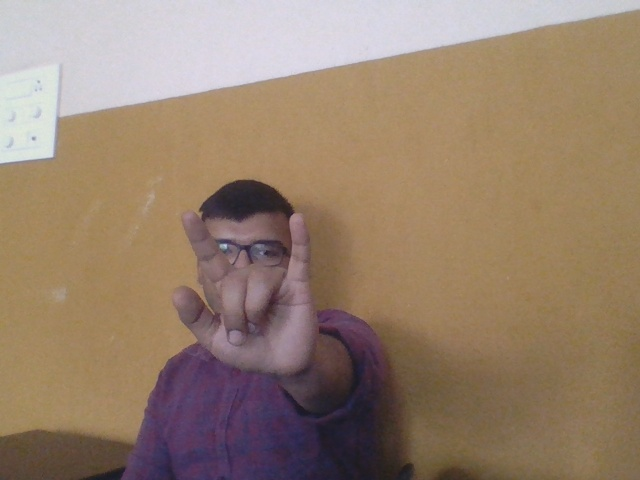I Love You: (151, 200, 338, 377)
